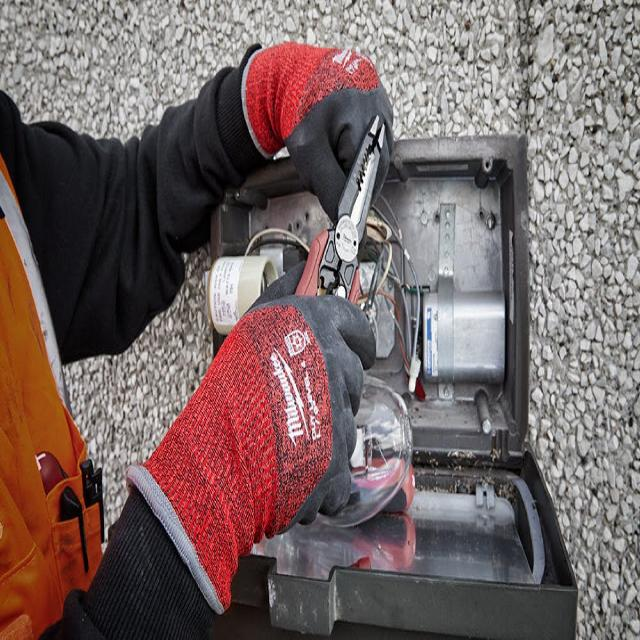gloves: (128, 257, 374, 614), (241, 37, 401, 237)
